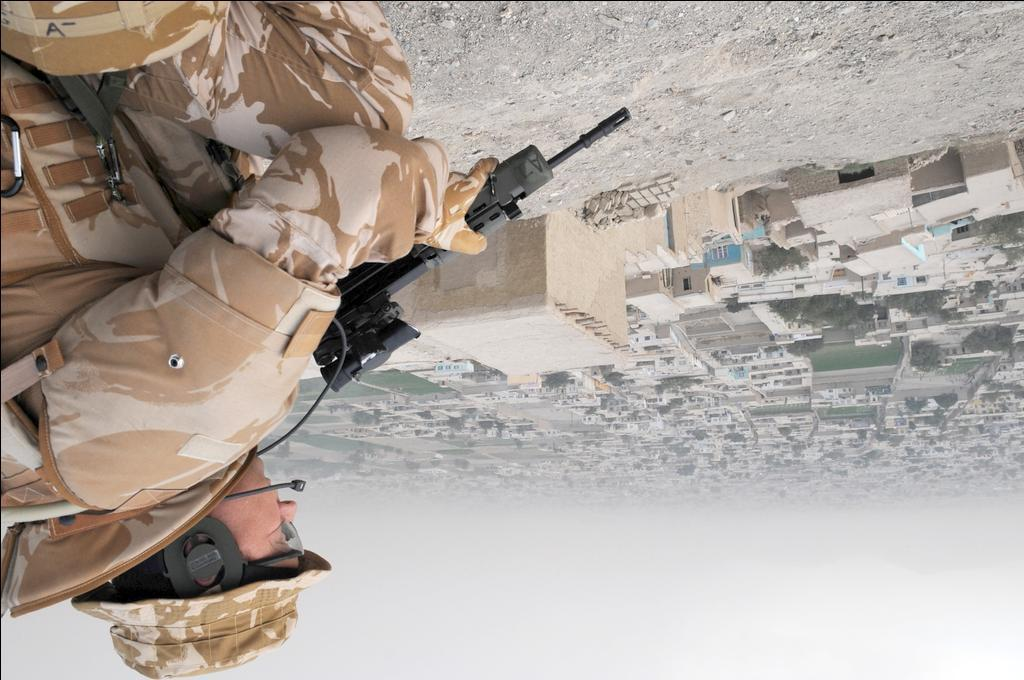gun: (300, 107, 636, 389)
